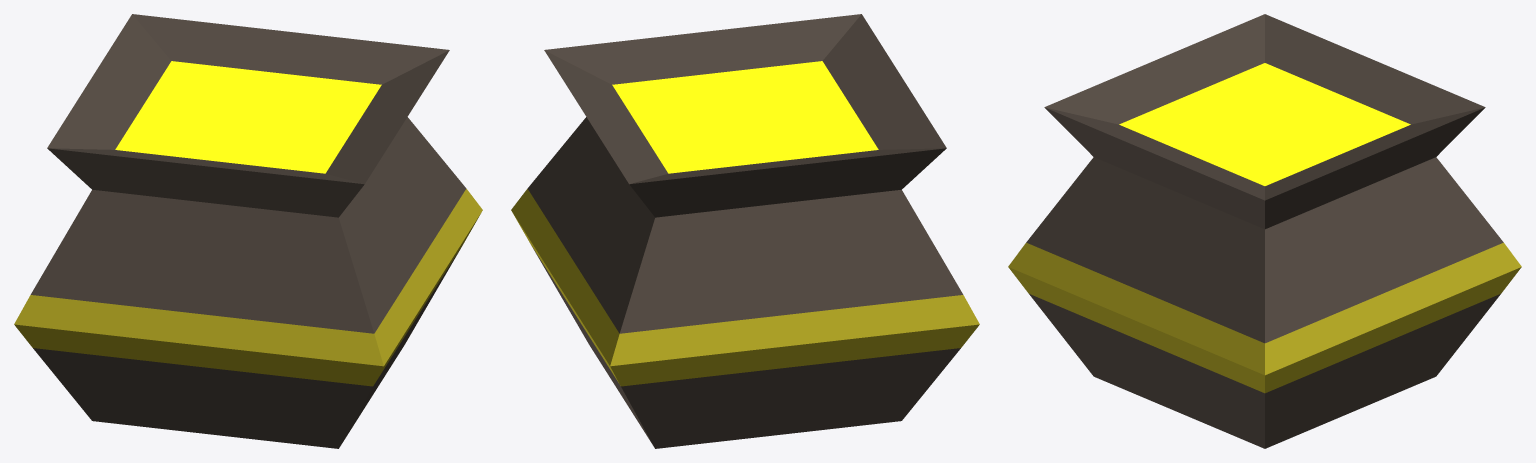
Rendered from item_lava.fbx.
3 renders of one model, left to right at view 1: azimuth 30°, elevation 25°; view 2: azimuth 150°, elevation 25°; view 3: azimuth 270°, elevation 25°, orthographic. The views are drawn at different scales.
Visible parts, largest first — view 1: item_lava; view 2: item_lava; view 3: item_lava.
Boxes of the visible parts, x1=… form: item_lava: x1=14, y1=14, x2=482, y2=448; item_lava: x1=511, y1=14, x2=979, y2=448; item_lava: x1=1008, y1=14, x2=1521, y2=448.
Size of the model in its own units: 424 by 245 by 424.
